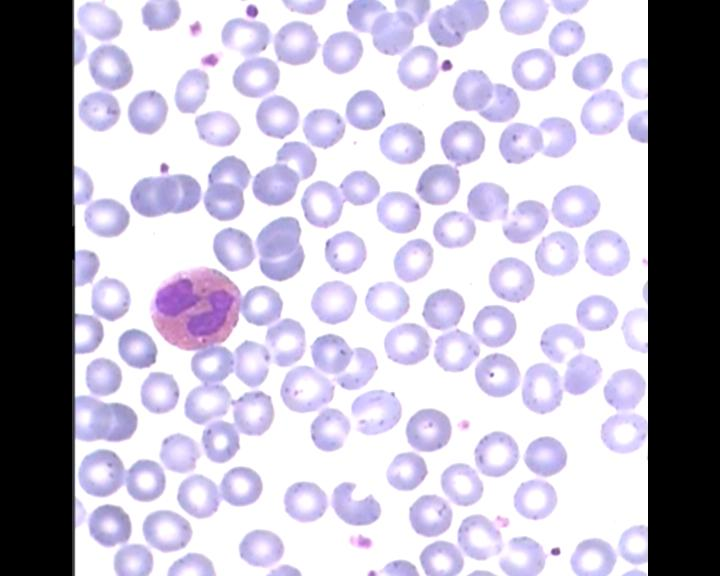eosi: (148, 261, 241, 350)
